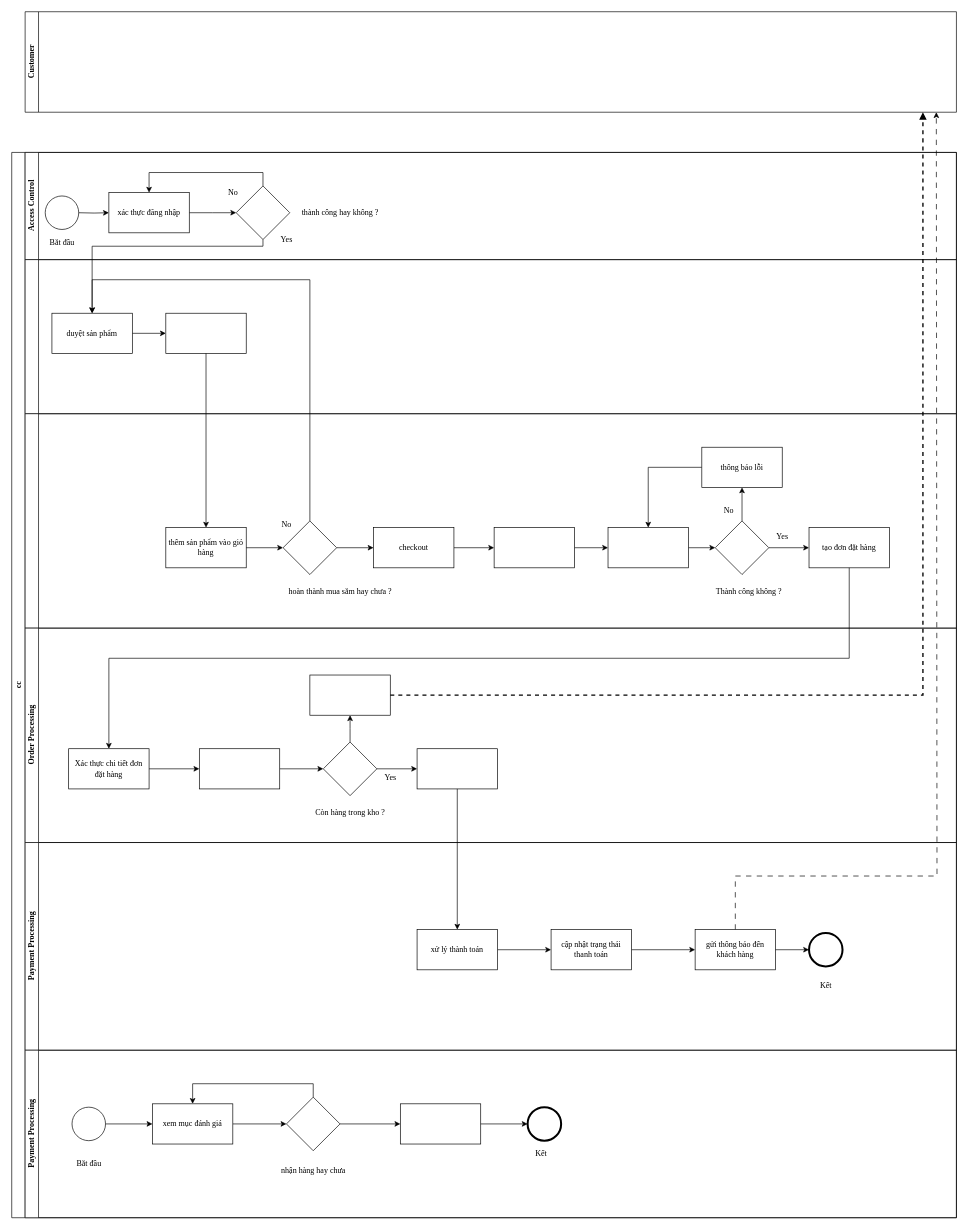
Image size: 968x1229. Some labels were removed from this diagram. The shapes that lost their labels are listed below. From the top down, each one's box as (x1, y1, x2, y2) in pixels, then its label:
(165, 313, 246, 353): xem chi tiết sản
(24, 259, 956, 414): Product Catalog
(24, 413, 956, 628): Shipping Cart
(493, 527, 575, 568): Cập nhật giỏ hàng (thêm/xoá số lượng sản phẩm)
(607, 527, 688, 568): nhập thông tin sản thanh toán
(309, 674, 390, 715): gửi thông báo đên khách hàng
(199, 748, 280, 789): Kiểm tra kho hàng
(416, 748, 497, 789): đặt hàng
(400, 1103, 481, 1144): tạo đánh giá (bình luận và rating từ 1 đến 5 sao)
